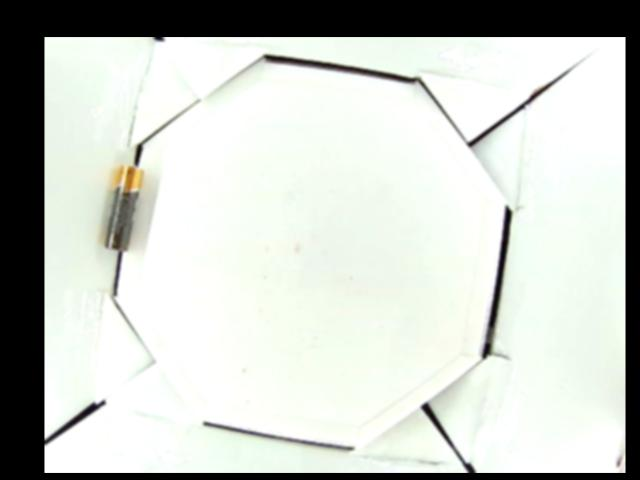Battery: (103, 163, 143, 252)
